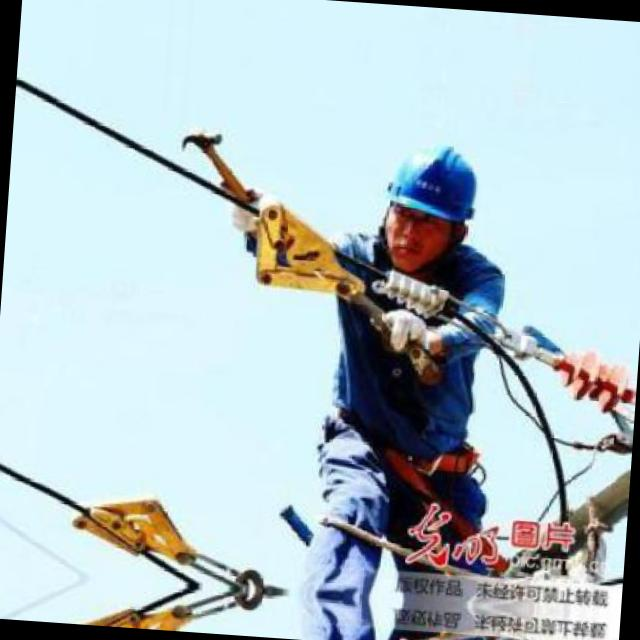helmet: (370, 128, 487, 278)
